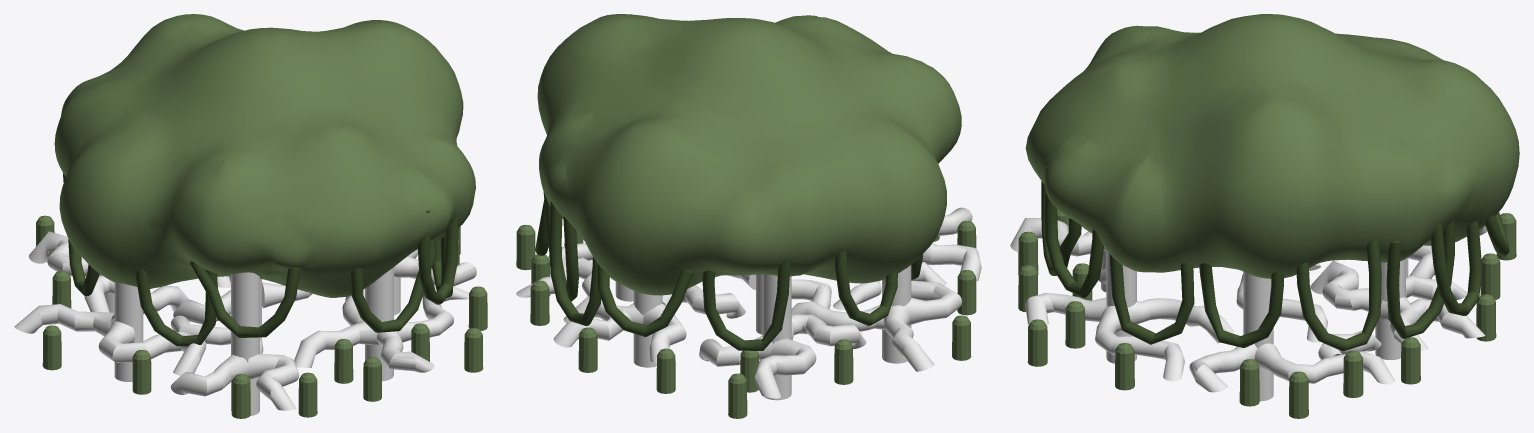
Rendered from Bosque_Nuevo.fbx.
3 renders of one model, left to right at view 1: azimuth 30°, elevation 25°; view 2: azimuth 150°, elevation 25°; view 3: azimuth 270°, elevation 25°, orthographic. The views are drawn at different scales.
Parts seen in each view (by area): view 1: polySurface234; view 2: polySurface234; view 3: polySurface234.
Part boxes in pixels (x1,y1,x2,y2): polySurface234: (14,14,487,418); polySurface234: (516,14,981,418); polySurface234: (1010,14,1519,418).
Size of the model in its own units: 119 by 78.56 by 116.
